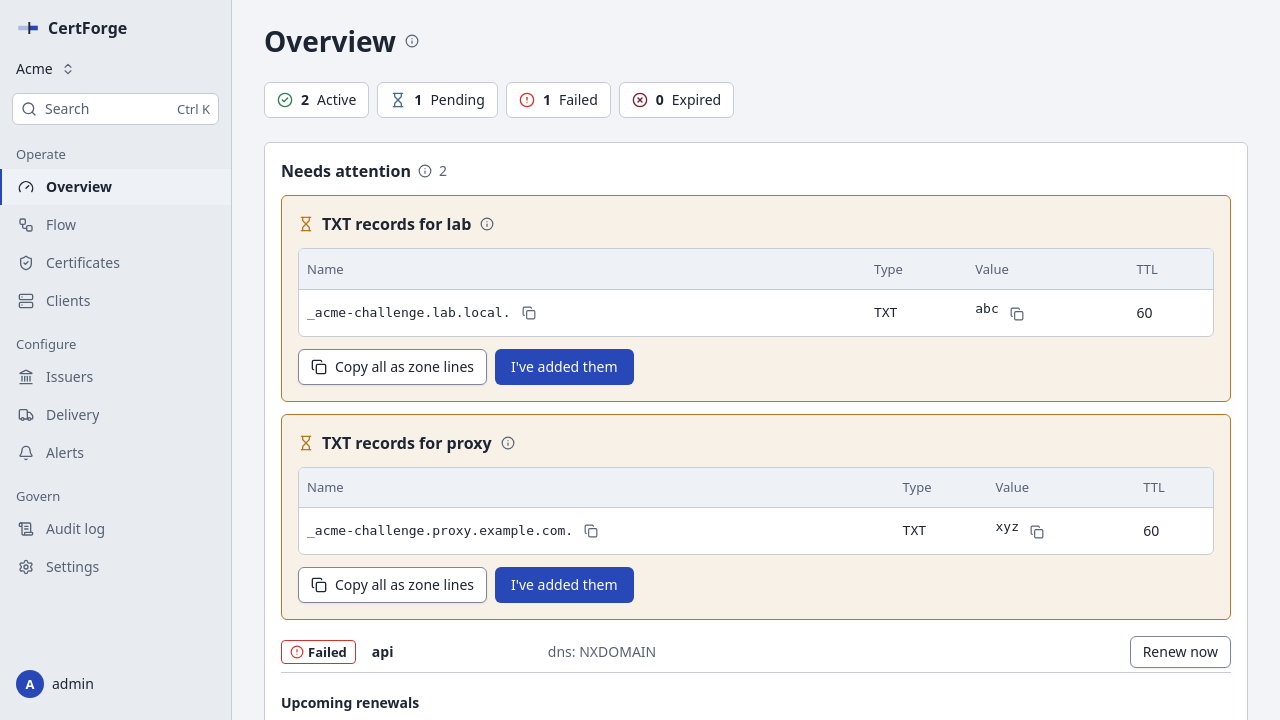
only disables Renew now on the row being renewed
Click the button "Renew now".
click(1180, 652)  # box [1130,636,1231,668]
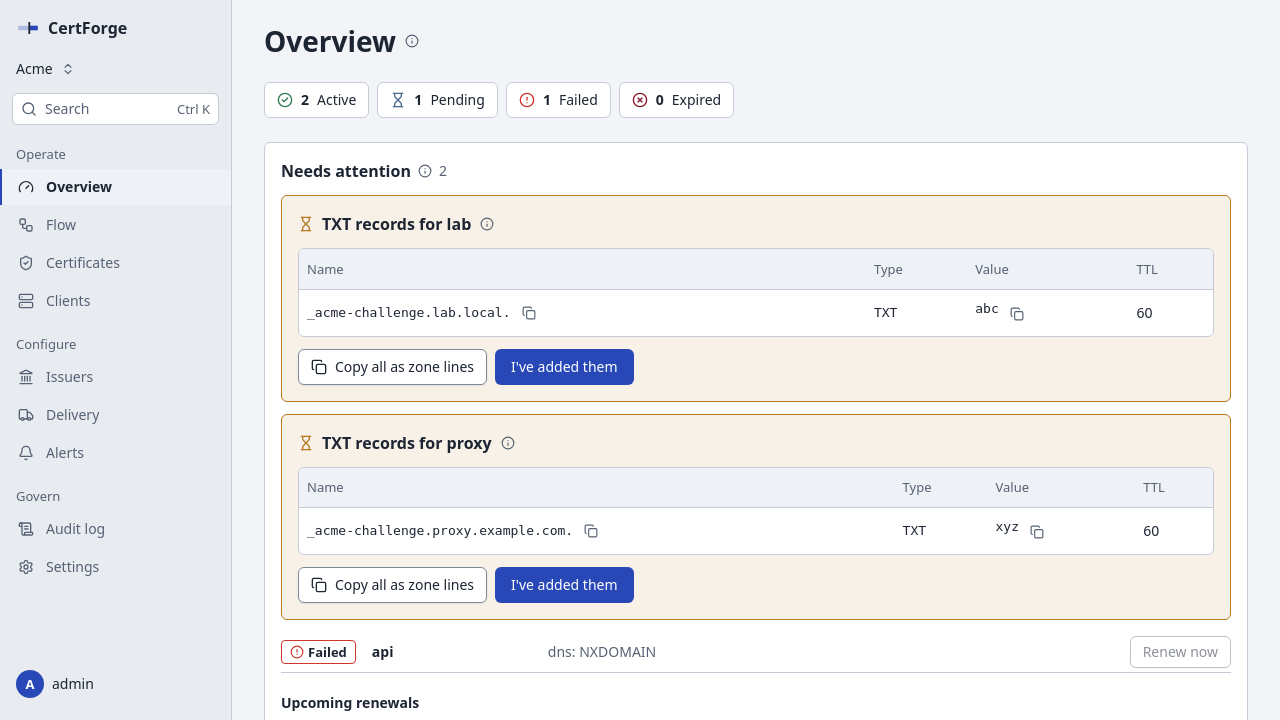
Check: the button "Renew now" is disabled, box [1130,636,1231,668]
